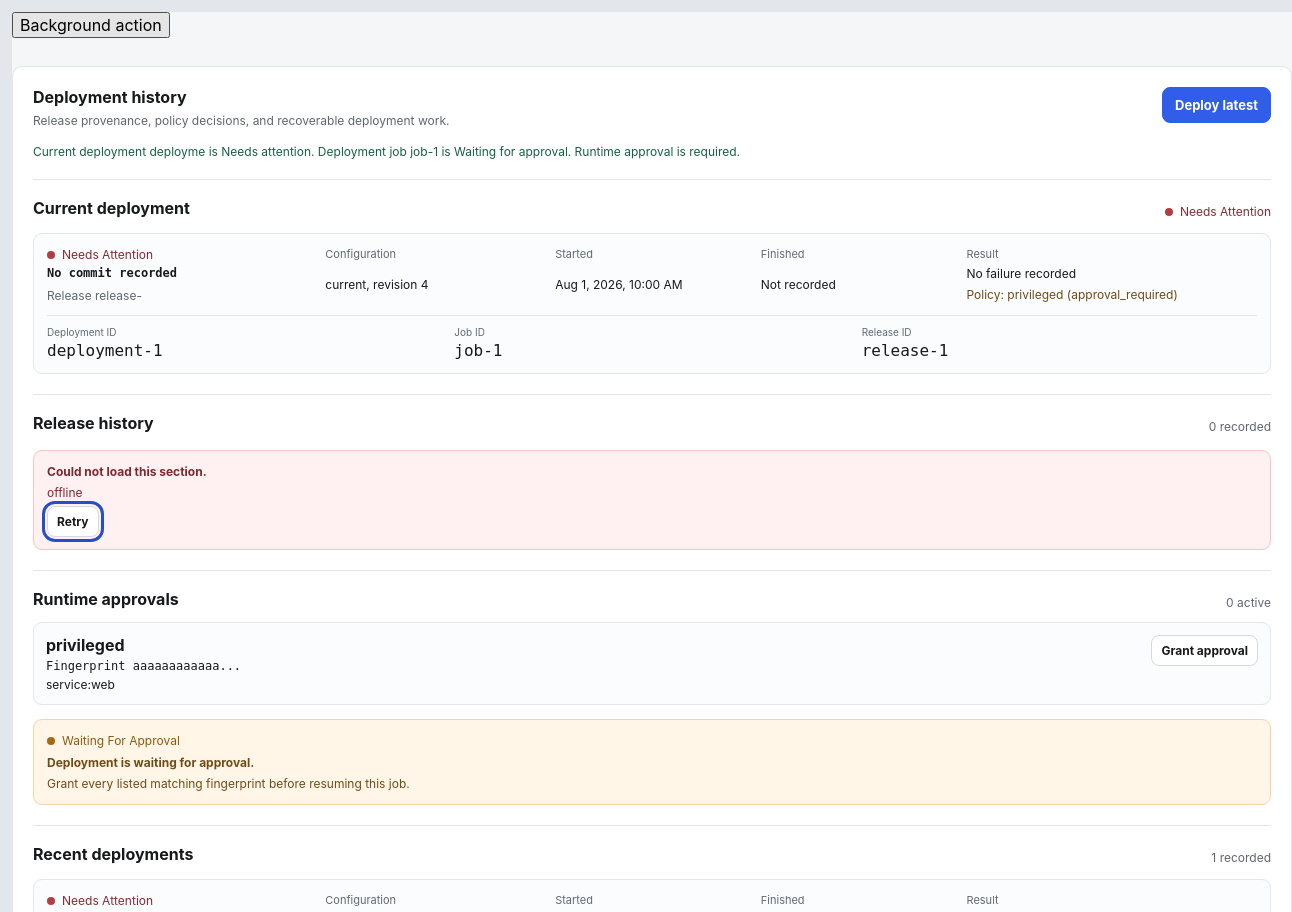
Scenario: DeploymentHistoryPanel › retries only a failed release section
The width and height of the screenshot is (1292, 912).
Click the button "Retry". click: (73, 522)
box: 47,506 -> 99,537
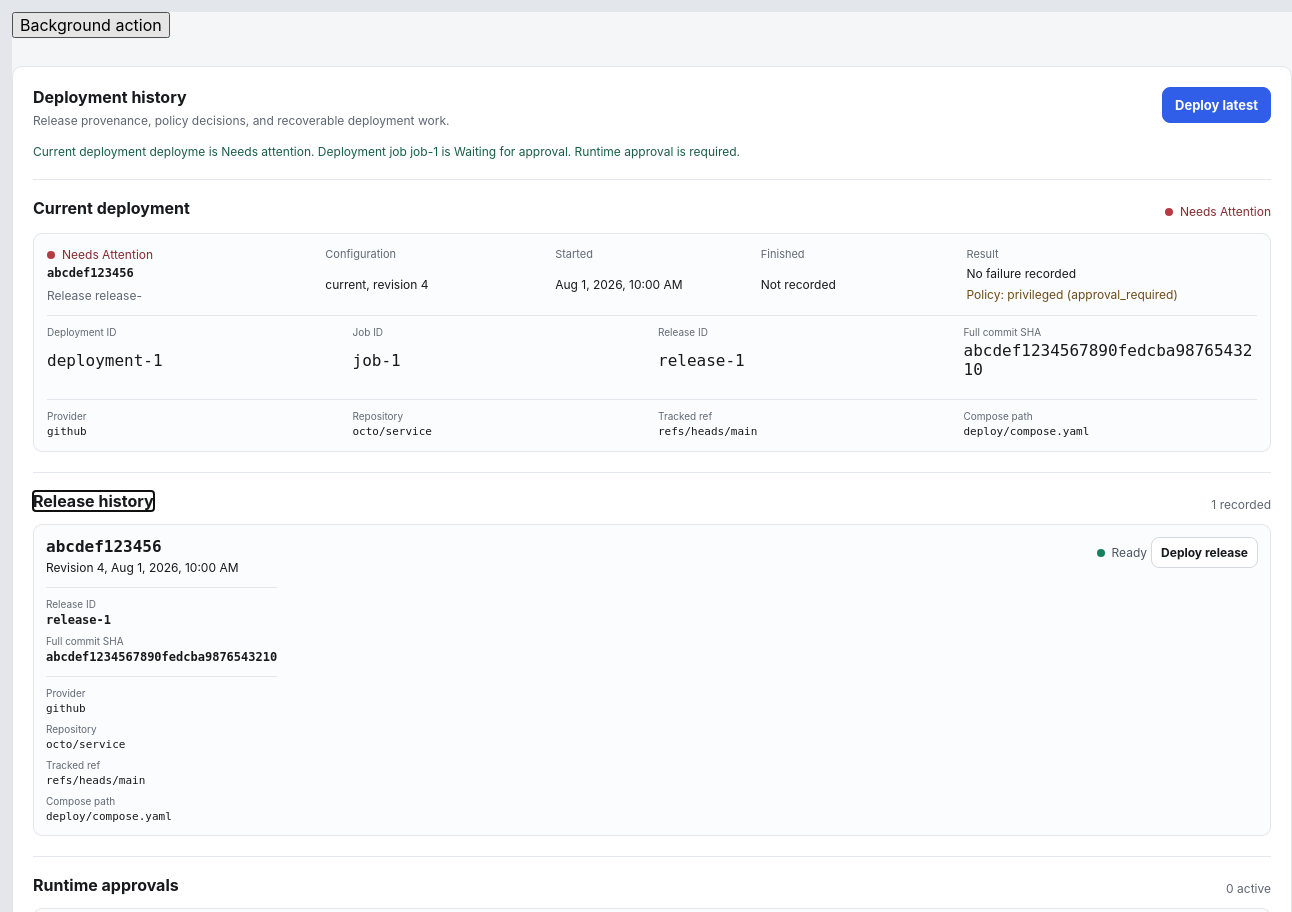
Check: the 1st text "abcdef123456" is shown, box 47,266 -> 134,280
